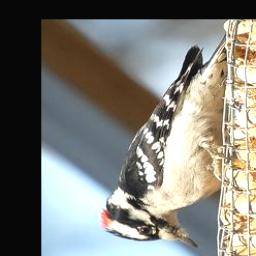Woodpecker: (98, 37, 235, 247)
